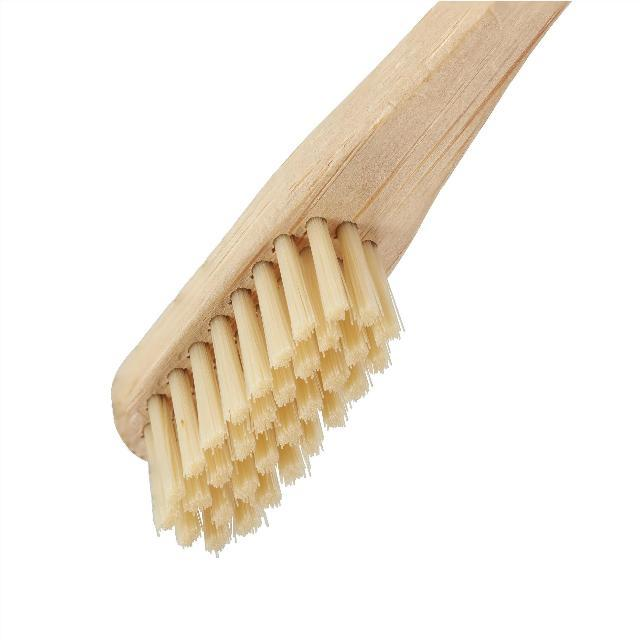toothbrush: (26, 1, 640, 600)
